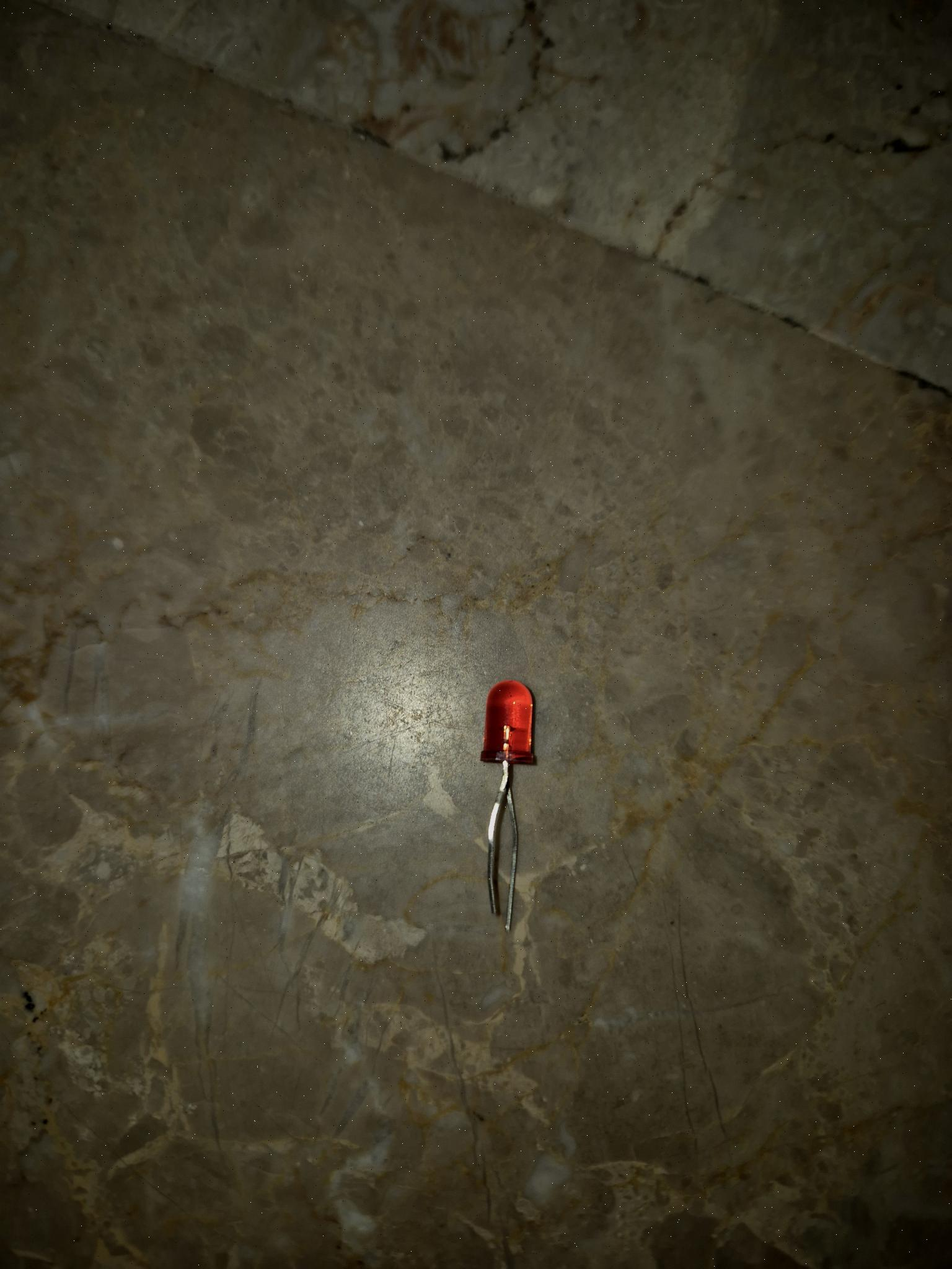led-diode: (480, 680, 535, 929)
